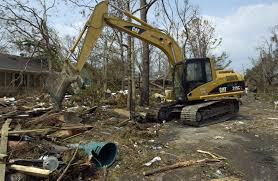excavator: (47, 1, 245, 131)
